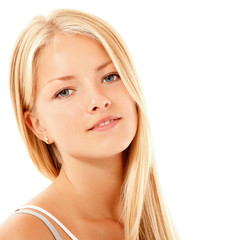teen: (12, 11, 147, 163)
